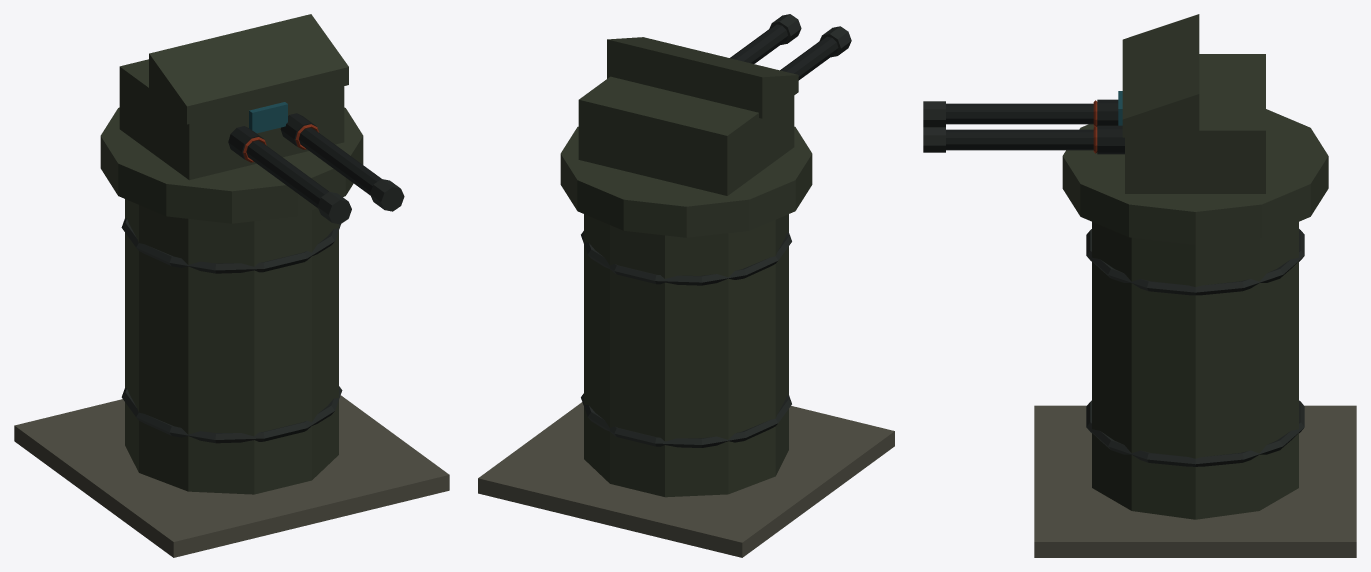
Rendered from Bastion_GunTower_Articulated.glb.
3 renders of one model, left to right at view 1: azimuth 30°, elevation 25°; view 2: azimuth 150°, elevation 25°; view 3: azimuth 270°, elevation 25°, orthographic. The views are drawn at different scales.
Visible parts, largest first — view 1: Base, WeaponYaw, WeaponPitch; view 2: Base, WeaponYaw, WeaponPitch; view 3: Base, WeaponYaw, WeaponPitch.
Boxes of the visible parts, x1=… form: Base: x1=14, y1=107, x2=449, y2=557; WeaponYaw: x1=119, y1=14, x2=348, y2=179; WeaponPitch: x1=228, y1=113, x2=404, y2=224; Base: x1=478, y1=126, x2=894, y2=557; WeaponYaw: x1=578, y1=37, x2=798, y2=195; WeaponPitch: x1=730, y1=14, x2=851, y2=80; Base: x1=1034, y1=109, x2=1356, y2=557; WeaponYaw: x1=1118, y1=14, x2=1265, y2=193; WeaponPitch: x1=923, y1=99, x2=1124, y2=154.
Bounding box in the file's own units: 4 × 5.97 × 5.38.
Materials: 1 (1 with a texture image).
